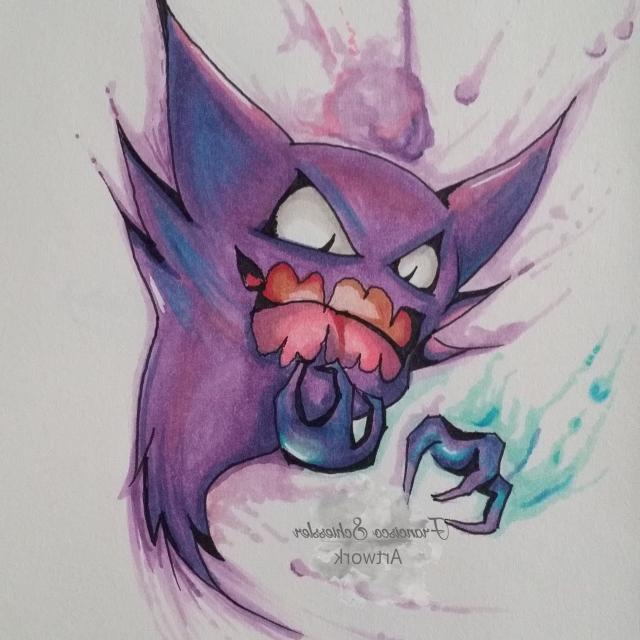Haunter: (130, 99, 572, 545)
